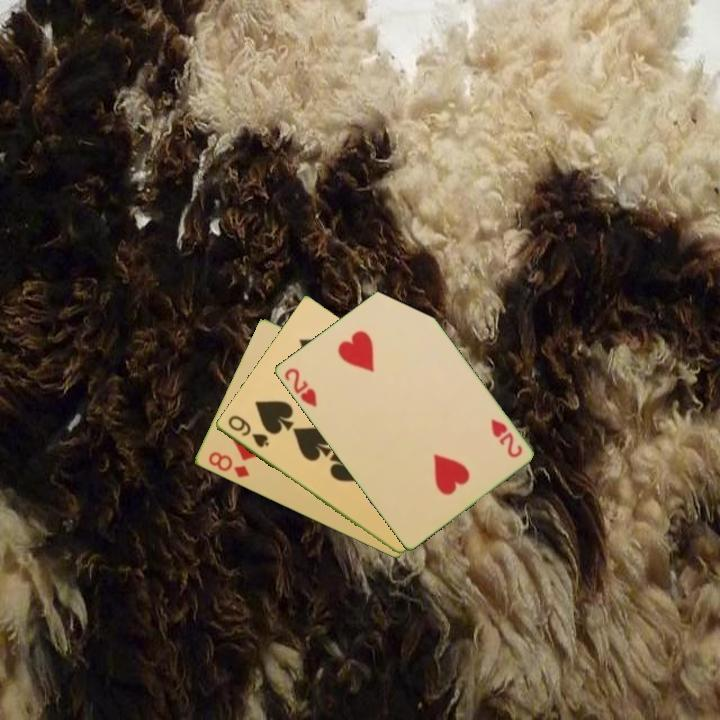2h: (280, 364, 320, 410), (487, 415, 525, 461)
8d: (204, 448, 252, 481)
9s: (224, 412, 272, 451)
